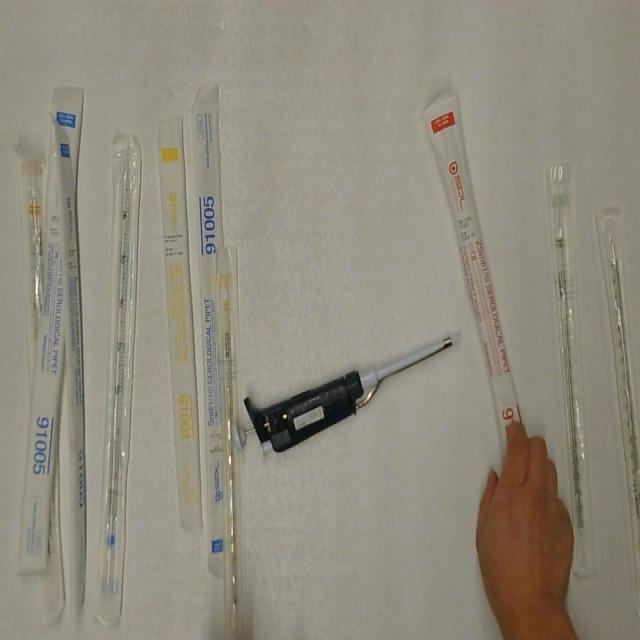Serelogical Pipet 1 mL - Sealed: (156, 112, 206, 538), (213, 242, 253, 640)
Serelogical Pipet 10 mL - Sealed: (14, 142, 50, 403)
Serelogical Pipet 2 mL - Sealed: (540, 157, 602, 580)
Serelogical Pipet 25 mL - Sealed: (419, 93, 534, 484)
Serelogical Pipet 5 mL - Sealed: (16, 85, 86, 580), (90, 129, 146, 633), (188, 81, 230, 584)
Single Channel Pipettor: (226, 323, 466, 458)
